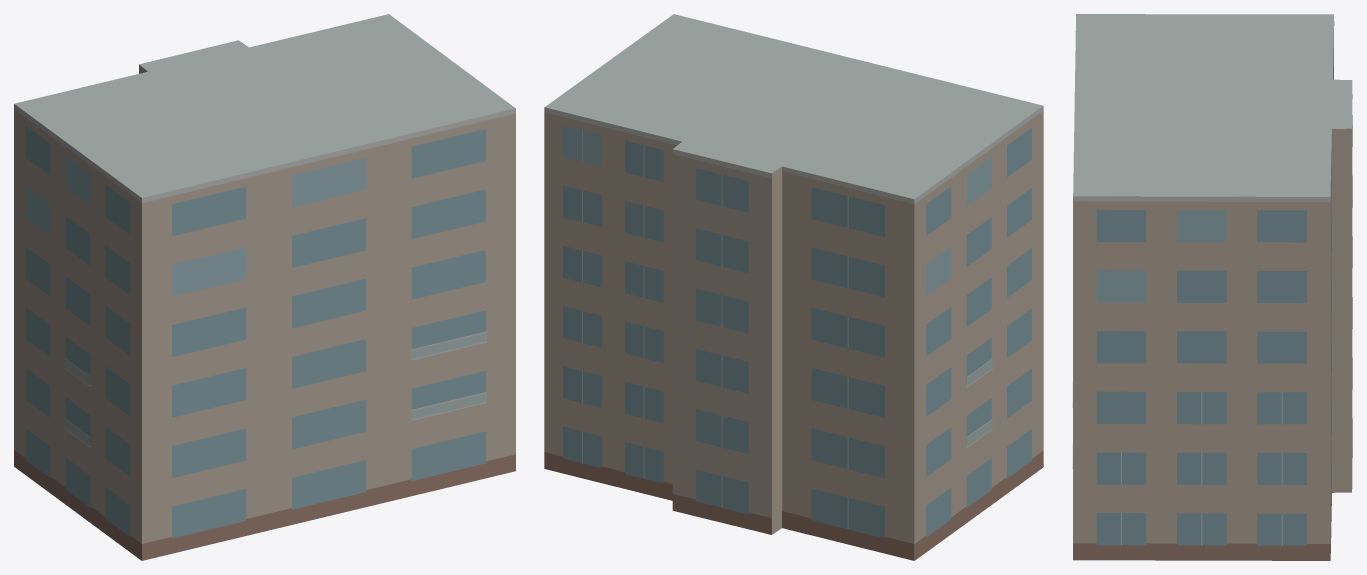
The model's file is survey-upis-32877375.glb.
3 renders of one model, left to right at view 1: azimuth 30°, elevation 25°; view 2: azimuth 150°, elevation 25°; view 3: azimuth 270°, elevation 25°, orthographic.
Parts seen in each view (by area): view 1: survey-upis-32877375.tmp; view 2: survey-upis-32877375.tmp; view 3: survey-upis-32877375.tmp.
Part boxes in pixels (x1=…): survey-upis-32877375.tmp: x1=14, y1=14, x2=515, y2=560; survey-upis-32877375.tmp: x1=544, y1=14, x2=1043, y2=560; survey-upis-32877375.tmp: x1=1072, y1=14, x2=1352, y2=560.
Size of the model in its own units: 18.58 by 17.2 by 12.
